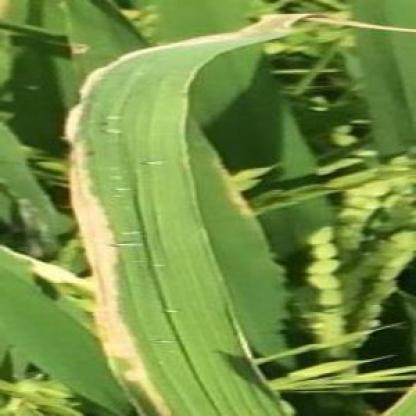Blight: (63, 13, 330, 416)
